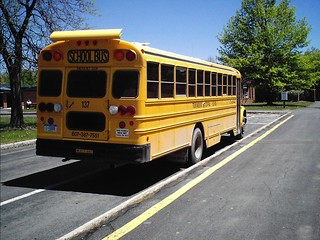bus: (35, 29, 246, 168)
